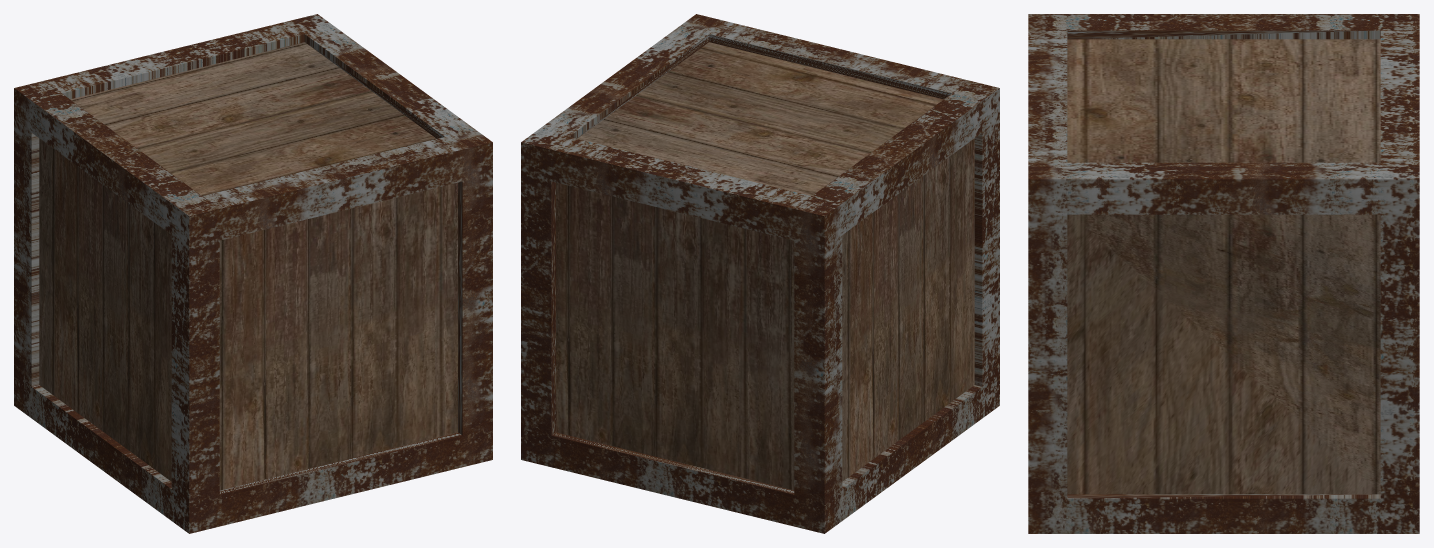
The model's file is Crate.fbx.
3 views of the same model, side by side, from view 1: azimuth 30°, elevation 25°; view 2: azimuth 150°, elevation 25°; view 3: azimuth 270°, elevation 25° (orthographic). The views are drawn at different scales.
Parts seen in each view (by area): view 1: Cube; view 2: Cube; view 3: Cube.
Boxes of the visible parts, x1,y1,x2,y2 form: Cube: [14, 14, 492, 533]; Cube: [521, 14, 999, 533]; Cube: [1028, 14, 1419, 533].
Size of the model in its own units: 200 by 200 by 200.
